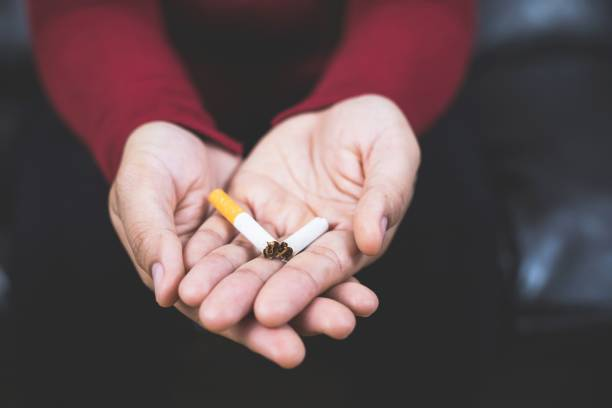cigarette: (209, 186, 282, 261), (275, 215, 330, 265)
